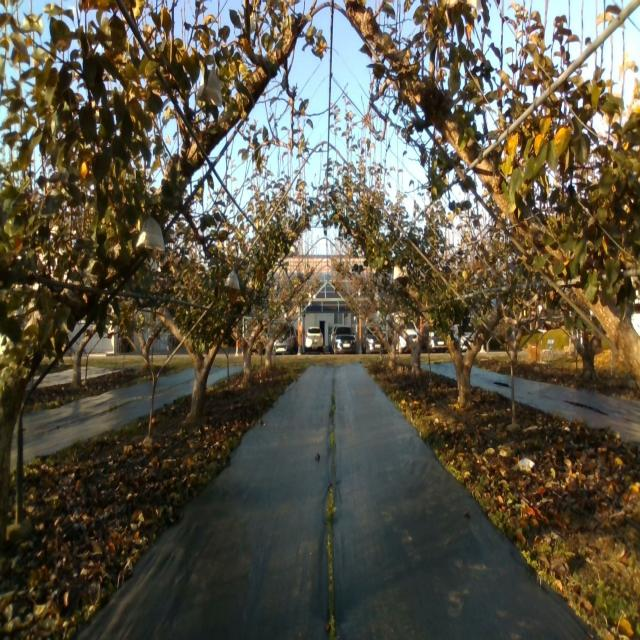pearbags: (136, 210, 165, 272), (197, 69, 223, 107), (224, 269, 240, 289)
